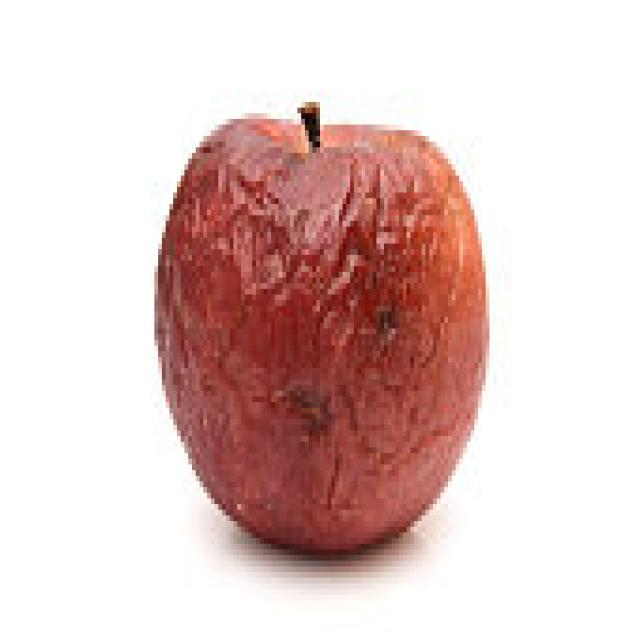overripe: (147, 98, 494, 562)
